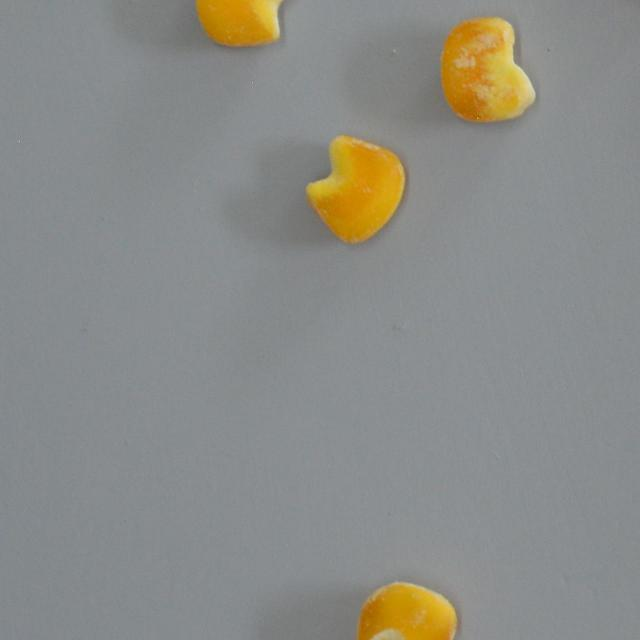pelicula: (304, 134, 405, 244), (440, 16, 536, 124), (353, 581, 458, 640), (194, 0, 304, 46)
